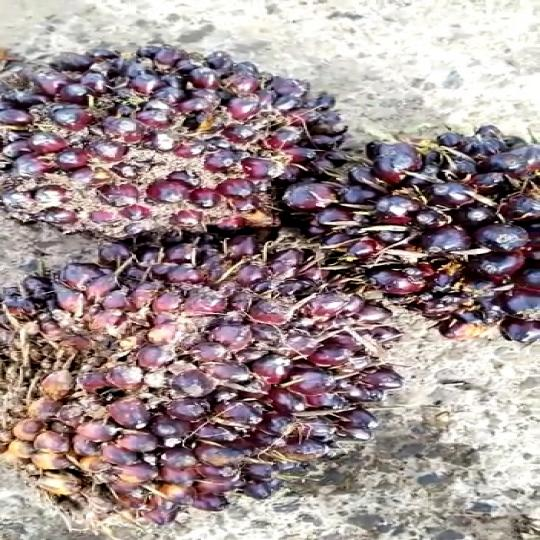kurang masak: (3, 215, 375, 525), (0, 42, 350, 273), (274, 106, 540, 367)
